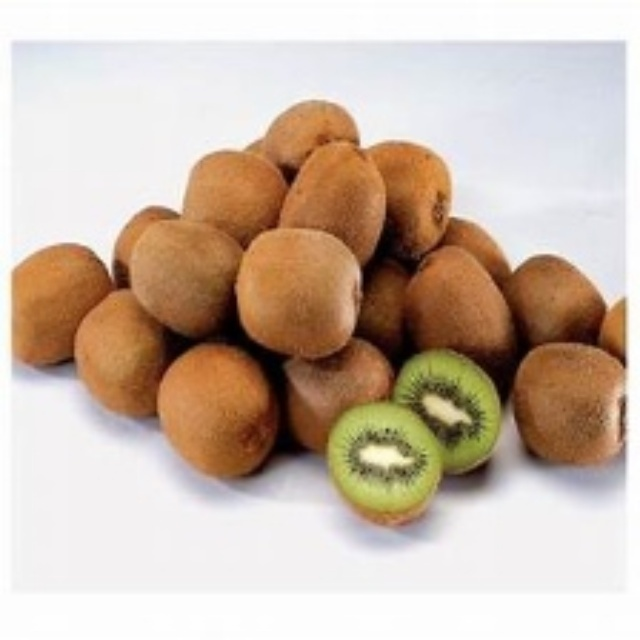kiwi: (340, 342, 500, 530), (225, 241, 366, 355), (394, 225, 509, 362), (166, 348, 282, 483), (280, 326, 399, 453), (114, 222, 249, 330), (516, 341, 639, 459), (76, 290, 184, 411), (512, 247, 639, 349), (17, 234, 109, 367), (183, 150, 296, 254), (242, 86, 380, 171), (357, 134, 465, 242), (299, 151, 389, 259)
